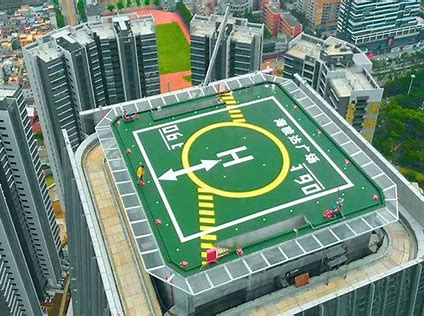H: (216, 145, 254, 168)
